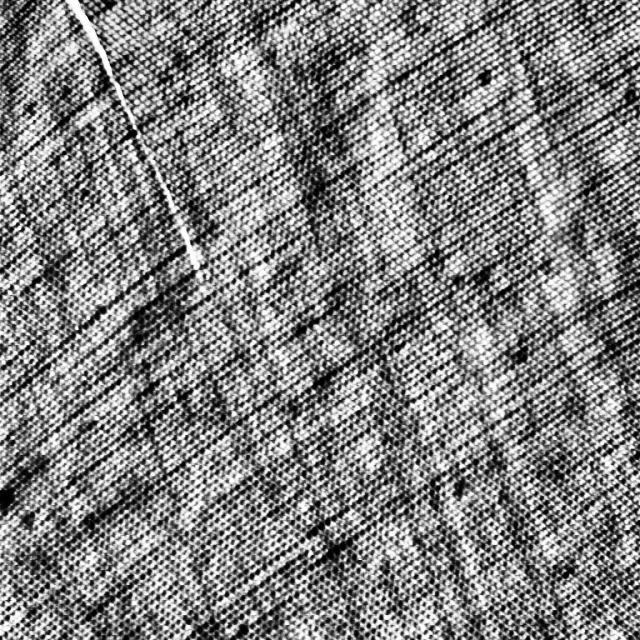Hole: (58, 0, 212, 310)
